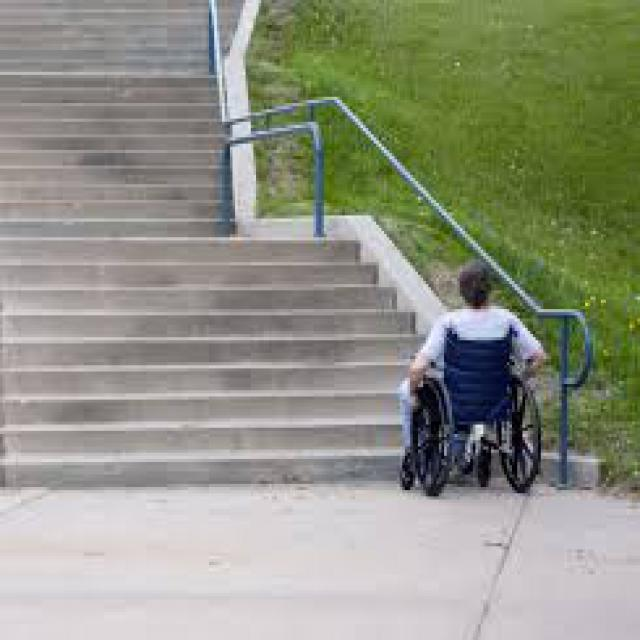wheelchairs: (392, 318, 577, 496)
